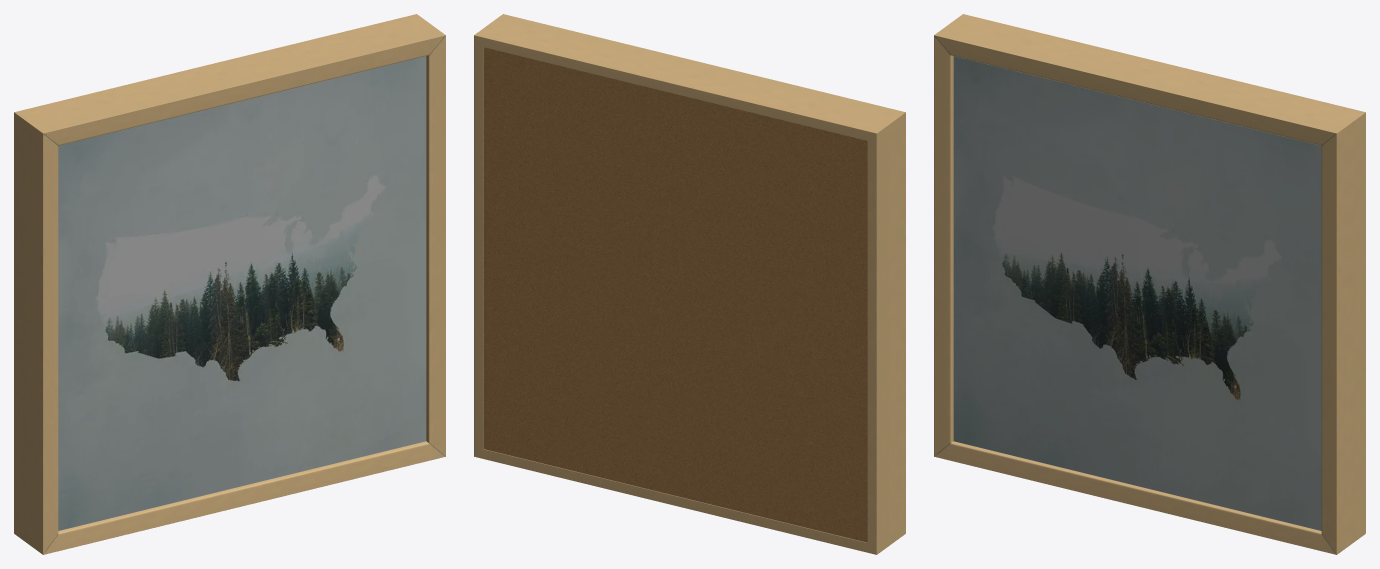
The model's file is abo-B073P5FM9J.glb.
The picture shows the model from 3 angles, left to right: view 1: azimuth 30°, elevation 25°; view 2: azimuth 150°, elevation 25°; view 3: azimuth 330°, elevation 25°; orthographic projection.
Bounding box in the file's own units: 0.304 × 0.304 × 0.038.
Materials: 1 (1 with a texture image).
